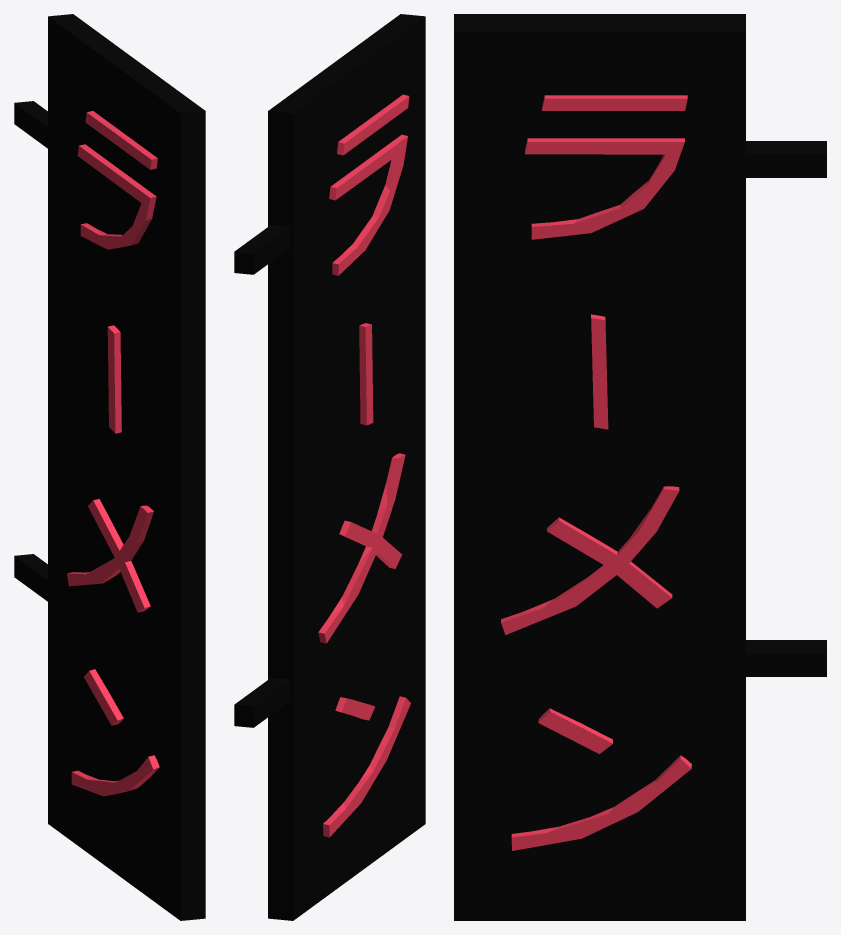
The model's file is ramen.glb.
3 renders of one model, left to right at view 1: azimuth 30°, elevation 25°; view 2: azimuth 150°, elevation 25°; view 3: azimuth 270°, elevation 25°, orthographic. The views are drawn at different scales.
Visible parts, largest first — view 1: Cube; view 2: Cube; view 3: Cube.
Boxes of the visible parts, x1=… form: Cube: x1=14, y1=14, x2=205, y2=920; Cube: x1=234, y1=14, x2=425, y2=920; Cube: x1=454, y1=14, x2=826, y2=920.
Size of the model in its own units: 0.0729 by 1.48 by 0.5602.
